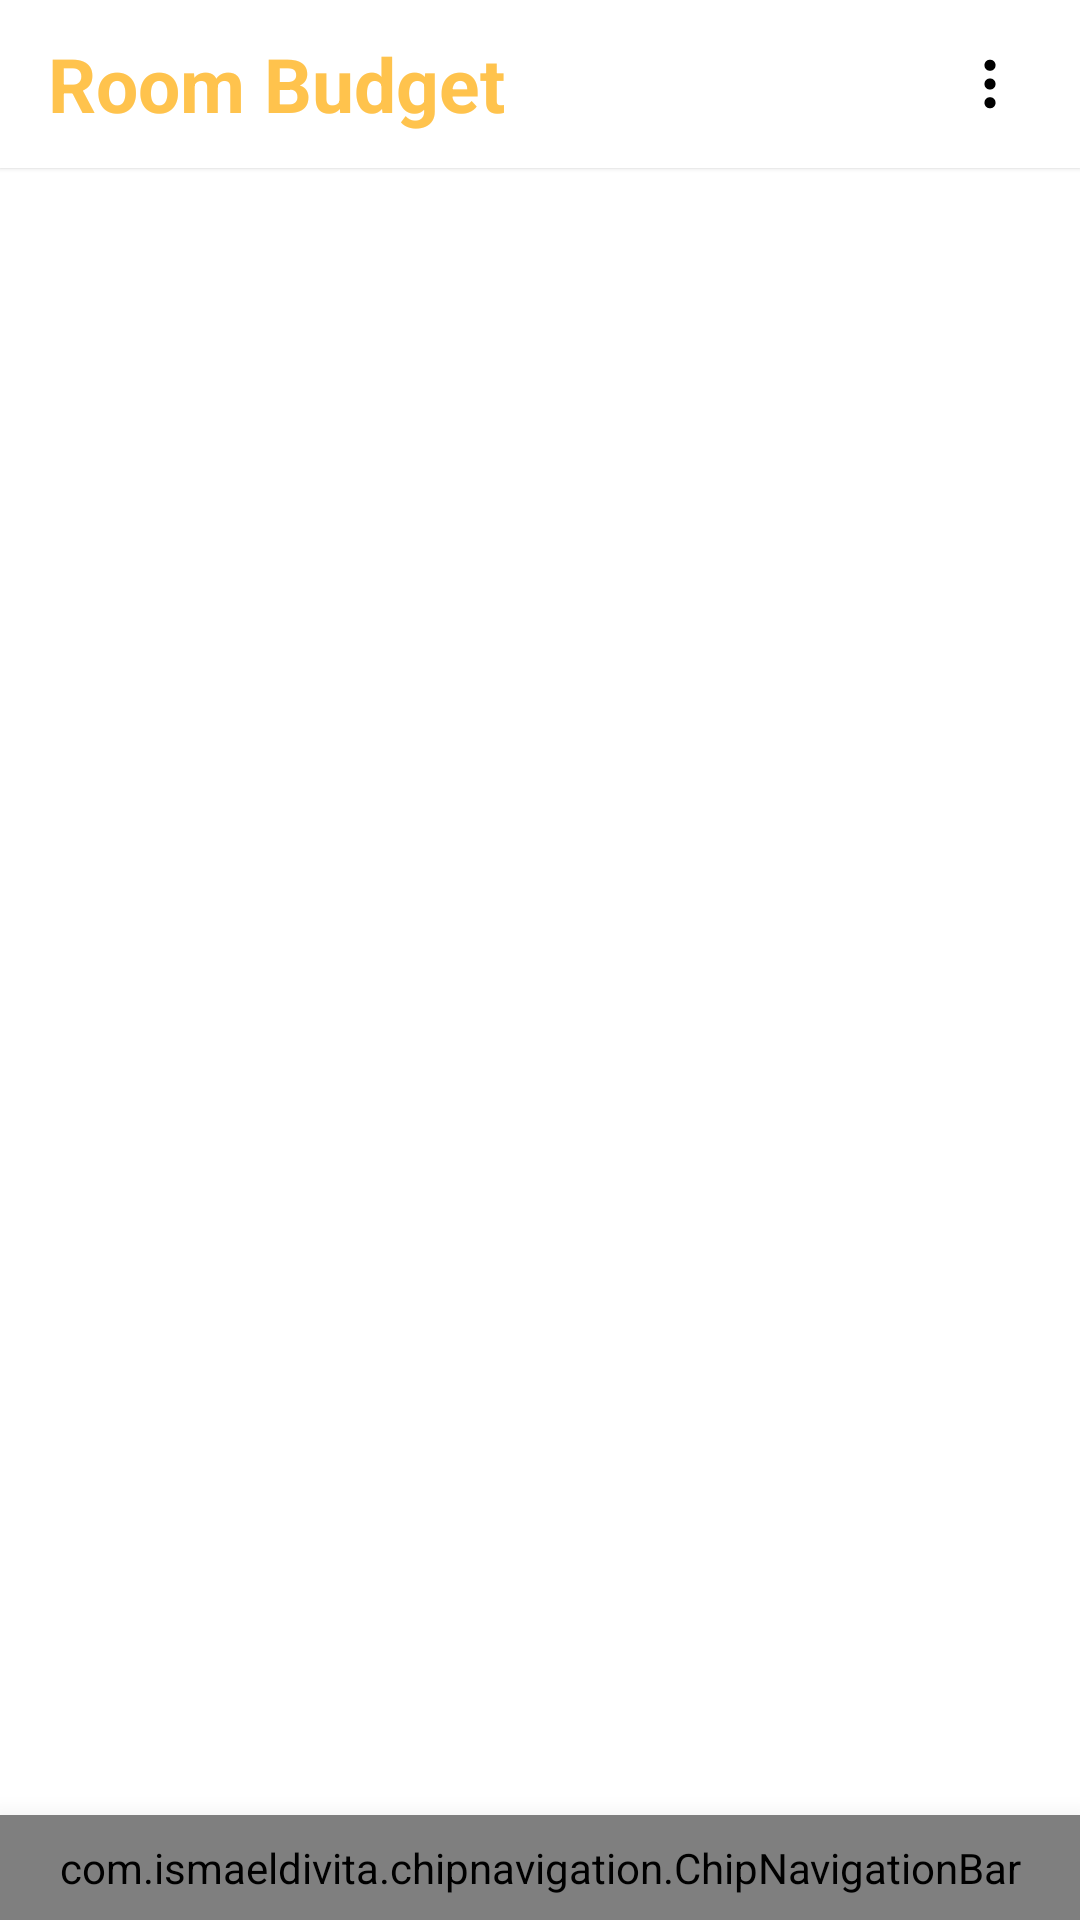

Where icons sit on this 1080x1920 app screen, as bbox(x1, y1, x2, y2):
Menu: bbox(984, 59, 996, 109)
